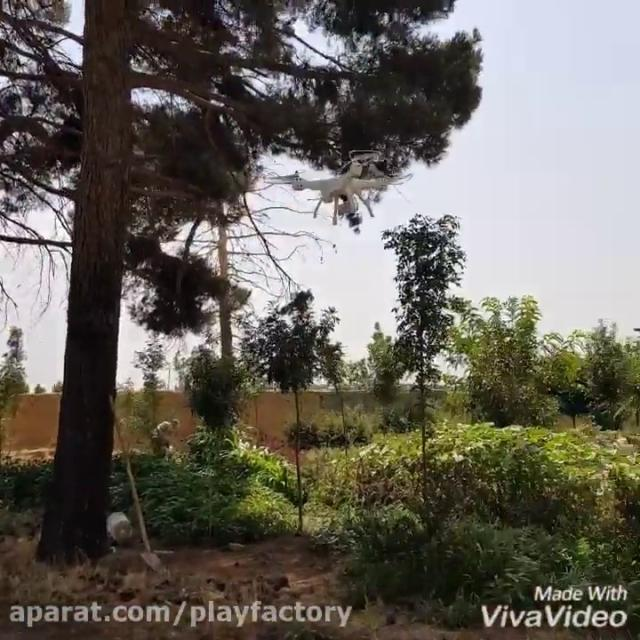drone: (263, 148, 414, 226)
